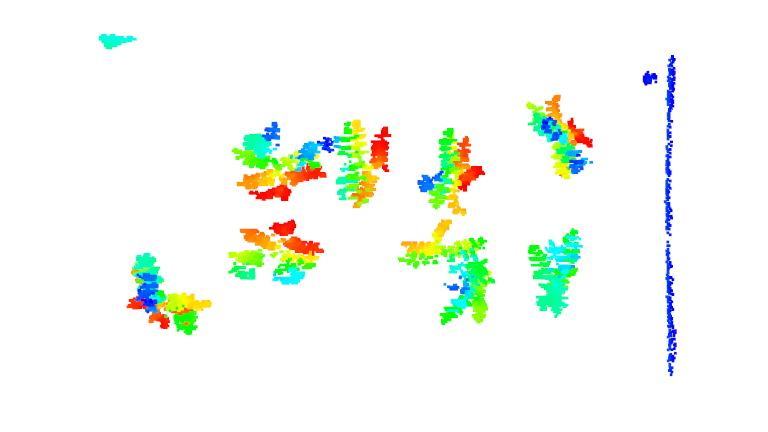chickpea: (389, 219, 494, 326), (233, 123, 329, 201), (124, 251, 207, 335), (220, 219, 324, 283), (414, 127, 487, 214), (329, 117, 394, 209), (528, 96, 596, 180), (528, 228, 588, 316)
